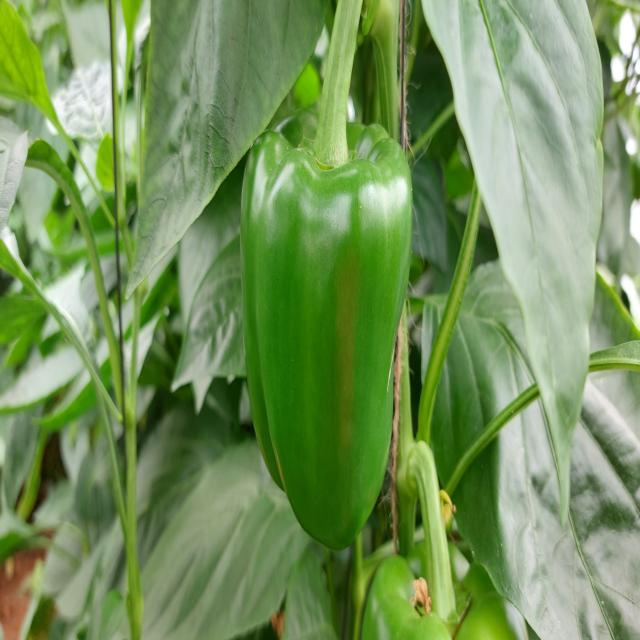Green--Not-ready-to-harvest: (241, 103, 412, 550)
